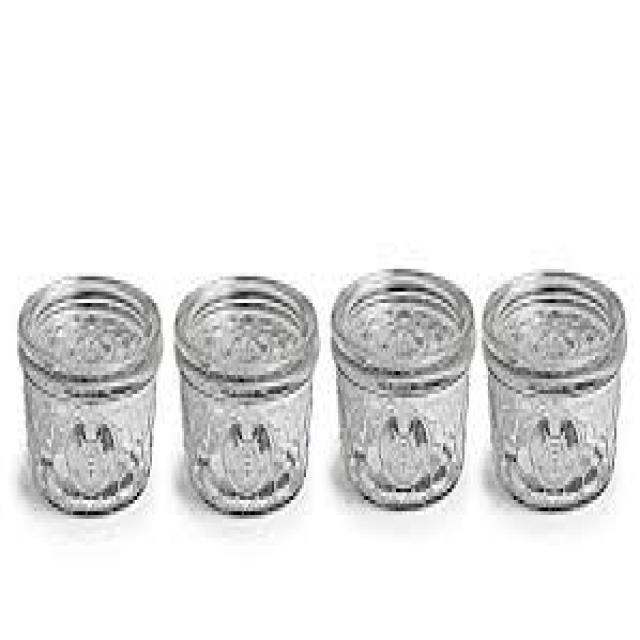glass: (330, 262, 473, 512), (479, 269, 625, 511), (173, 269, 315, 511), (17, 276, 159, 515)
